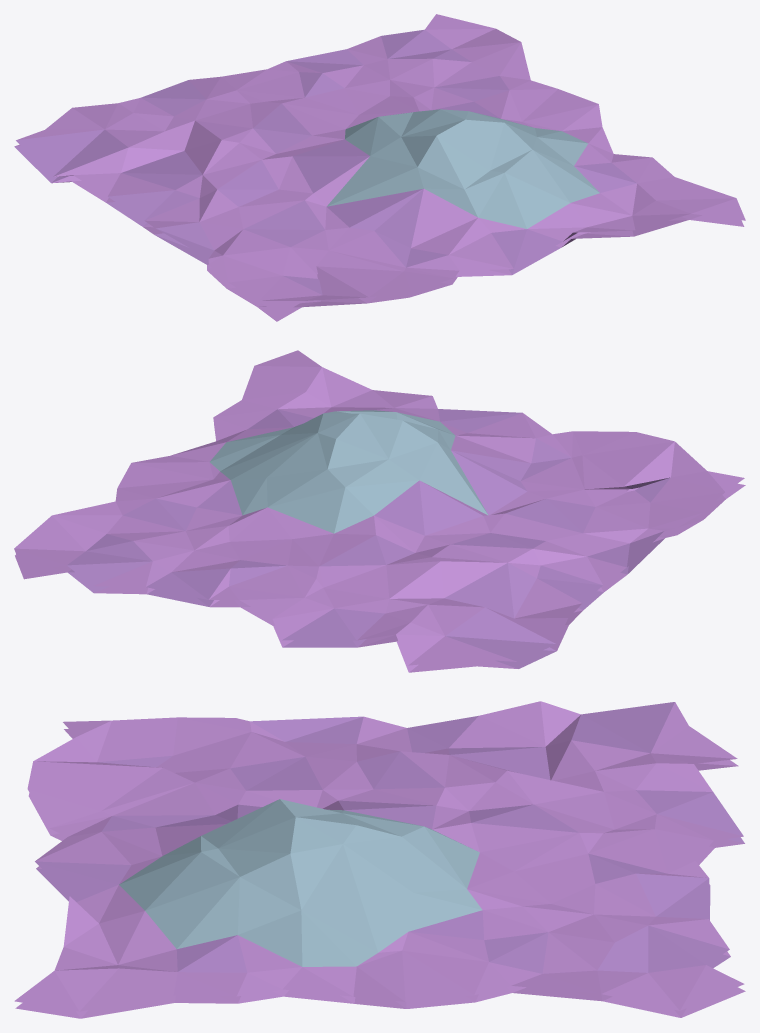
The model's file is Mountains.glb.
3 renders of one model, top to bottom at view 1: azimuth 30°, elevation 25°; view 2: azimuth 150°, elevation 25°; view 3: azimuth 270°, elevation 25°, orthographic. The views are drawn at different scales.
Parts seen in each view (by area): view 1: plane-col, Plane; view 2: plane-col, Plane; view 3: plane-col, Plane.
Part boxes in pixels (x1,y1,x2,y2): plane-col: (16,14,745,315); Plane: (14,144,744,321); plane-col: (14,350,744,665); Plane: (15,425,745,672); plane-col: (14,701,744,1011); Plane: (15,729,745,1018).
Bounding box in the file's own units: 21.9 × 3.21 × 22.32.
Materials: 1 (1 with a texture image).
